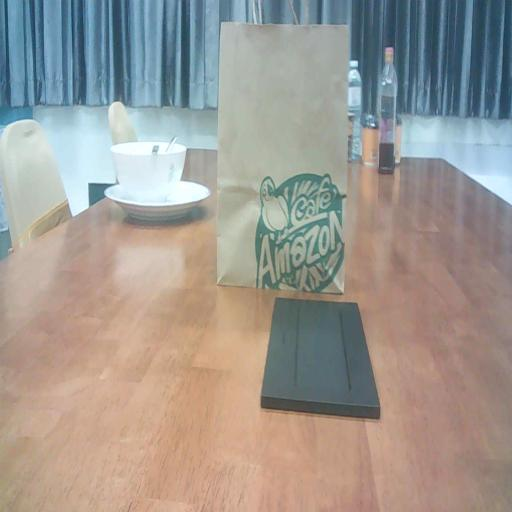bag: (217, 18, 356, 299)
